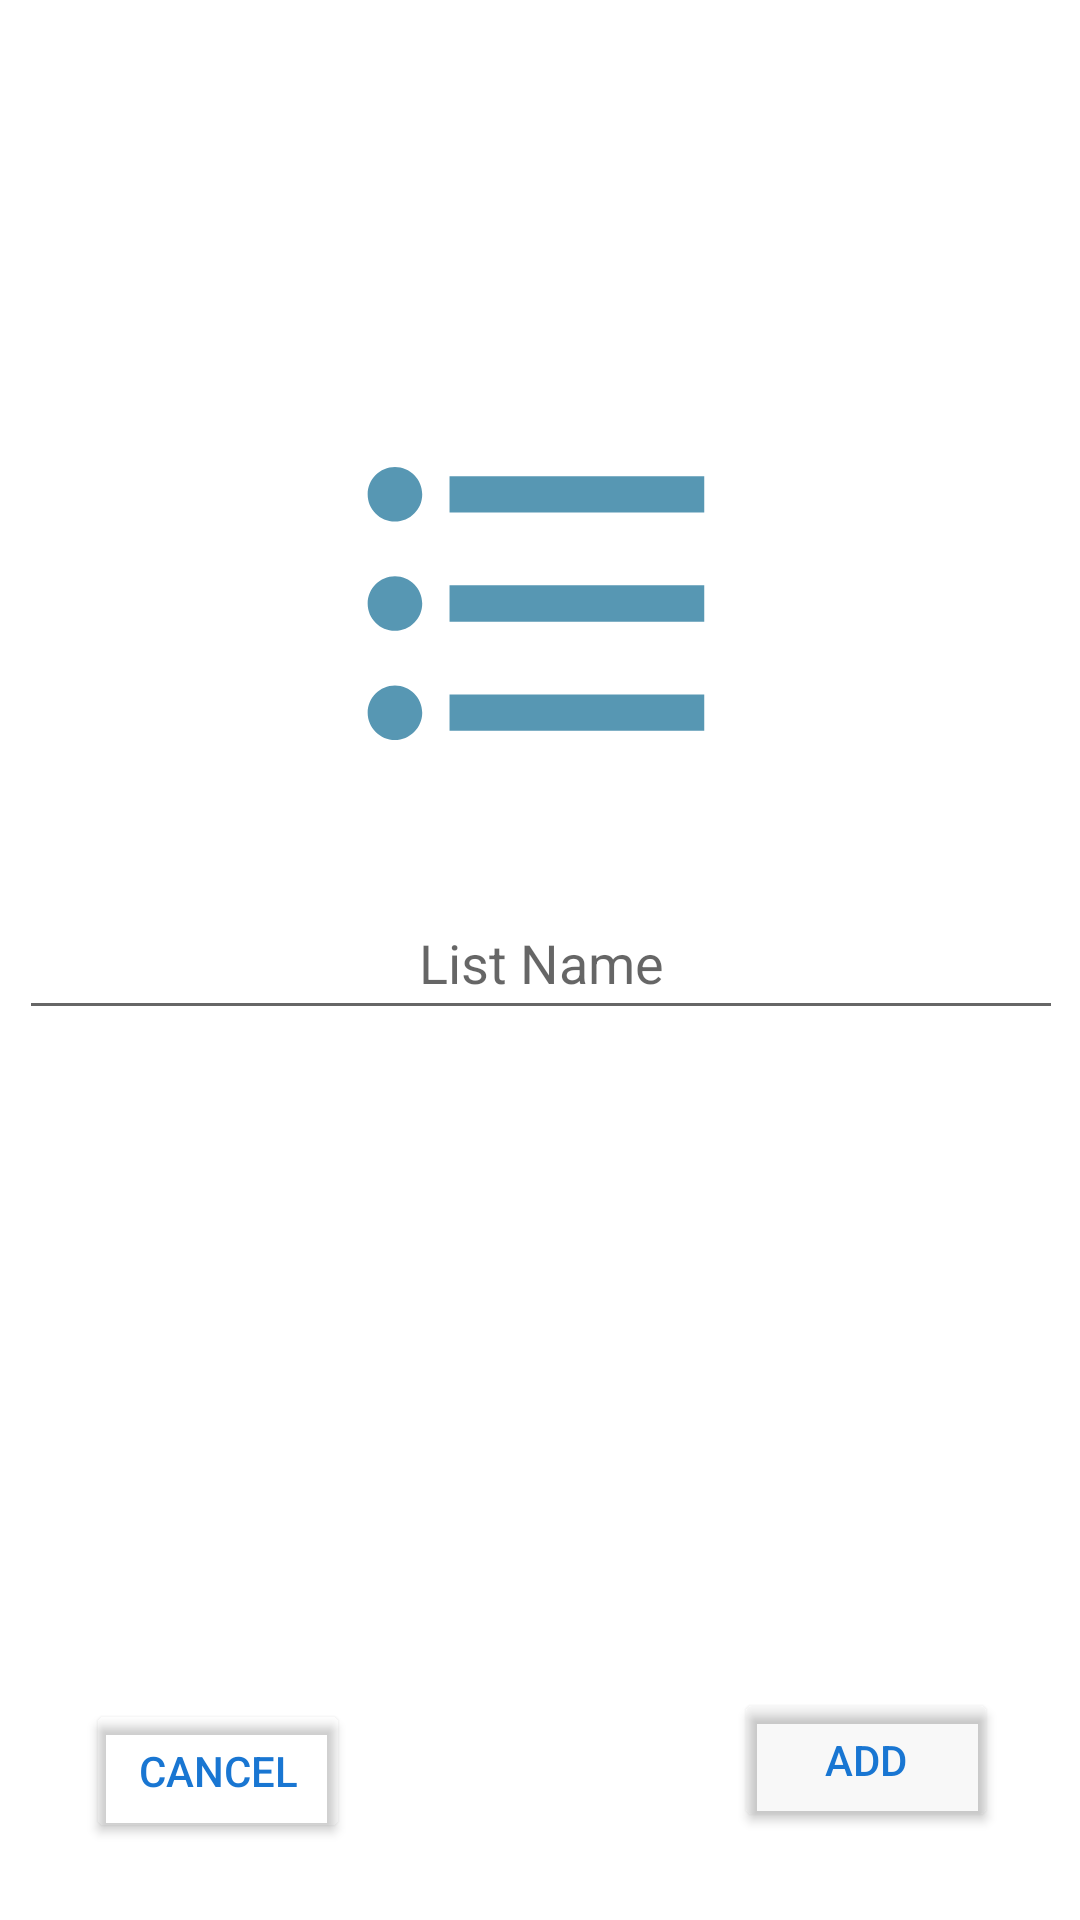

Icons on this 1080w x 1920h Android screen, each with the point to tap as (x=x, y=y):
newlisticon: (x=536, y=603)
